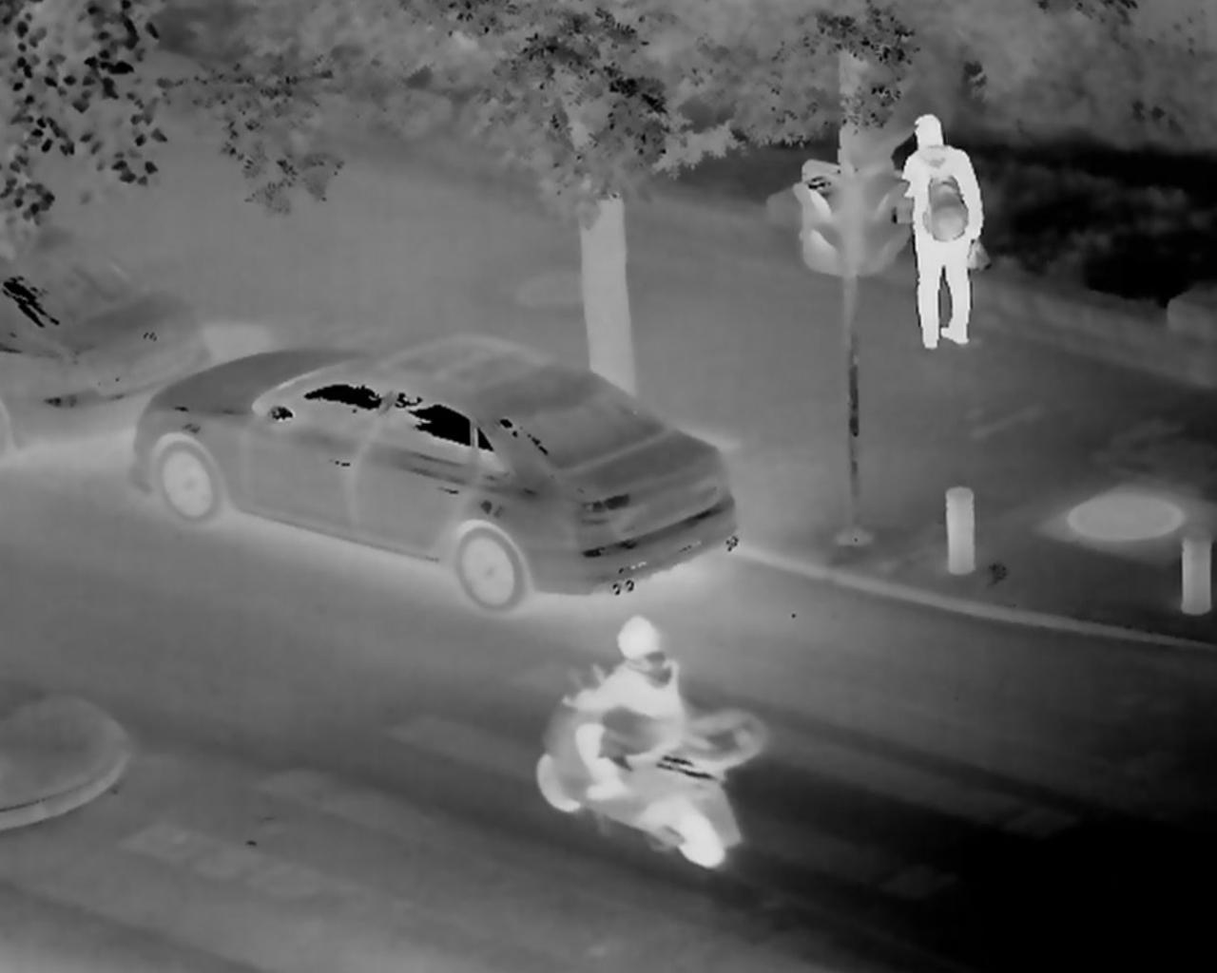person: (563, 609, 689, 810), (891, 106, 982, 351)
